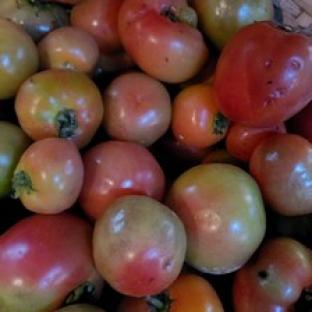Tomato: (165, 163, 266, 274), (214, 21, 311, 126), (0, 214, 103, 311), (94, 195, 186, 296), (14, 69, 104, 147), (80, 140, 165, 220), (233, 237, 311, 311), (13, 138, 83, 214), (102, 72, 171, 146), (250, 134, 311, 215), (117, 273, 224, 311), (172, 84, 229, 147), (0, 17, 38, 100), (38, 26, 100, 75), (0, 122, 32, 197), (225, 123, 286, 162), (289, 101, 311, 143), (55, 304, 104, 311)
